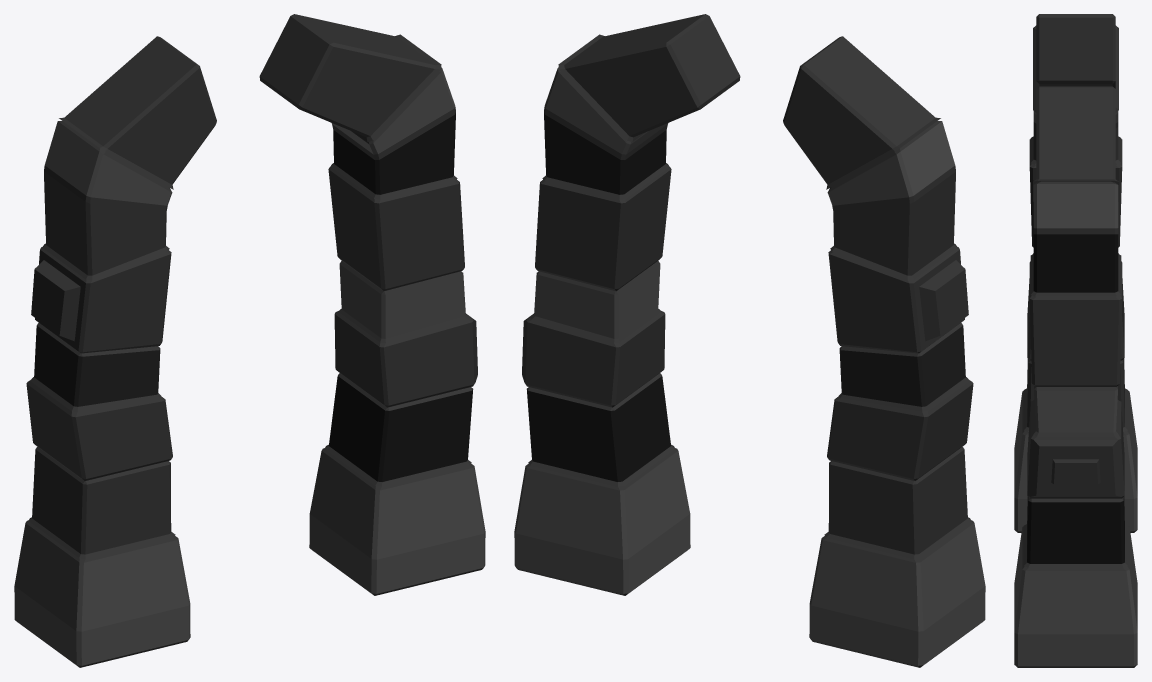
The model's file is portal.glb.
The picture shows the model from 3 angles, left to right: view 1: azimuth 30°, elevation 25°; view 2: azimuth 150°, elevation 25°; view 3: azimuth 270°, elevation 25°; orthographic projection. The views are drawn at different scales.
Visible parts, largest first — view 1: Cube, Cube.001; view 2: Cube, Cube.001; view 3: Cube.001, Cube.
Boxes of the visible parts, x1,y1,x2,y2 form: Cube: (14,36,216,667); Cube.001: (259,14,485,595); Cube: (783,36,985,667); Cube.001: (514,14,740,595); Cube.001: (1014,86,1137,667); Cube: (1014,14,1137,532).
Size of the model in its own units: 4.25 by 5.48 by 1.16.
1 material, 1 textured.
